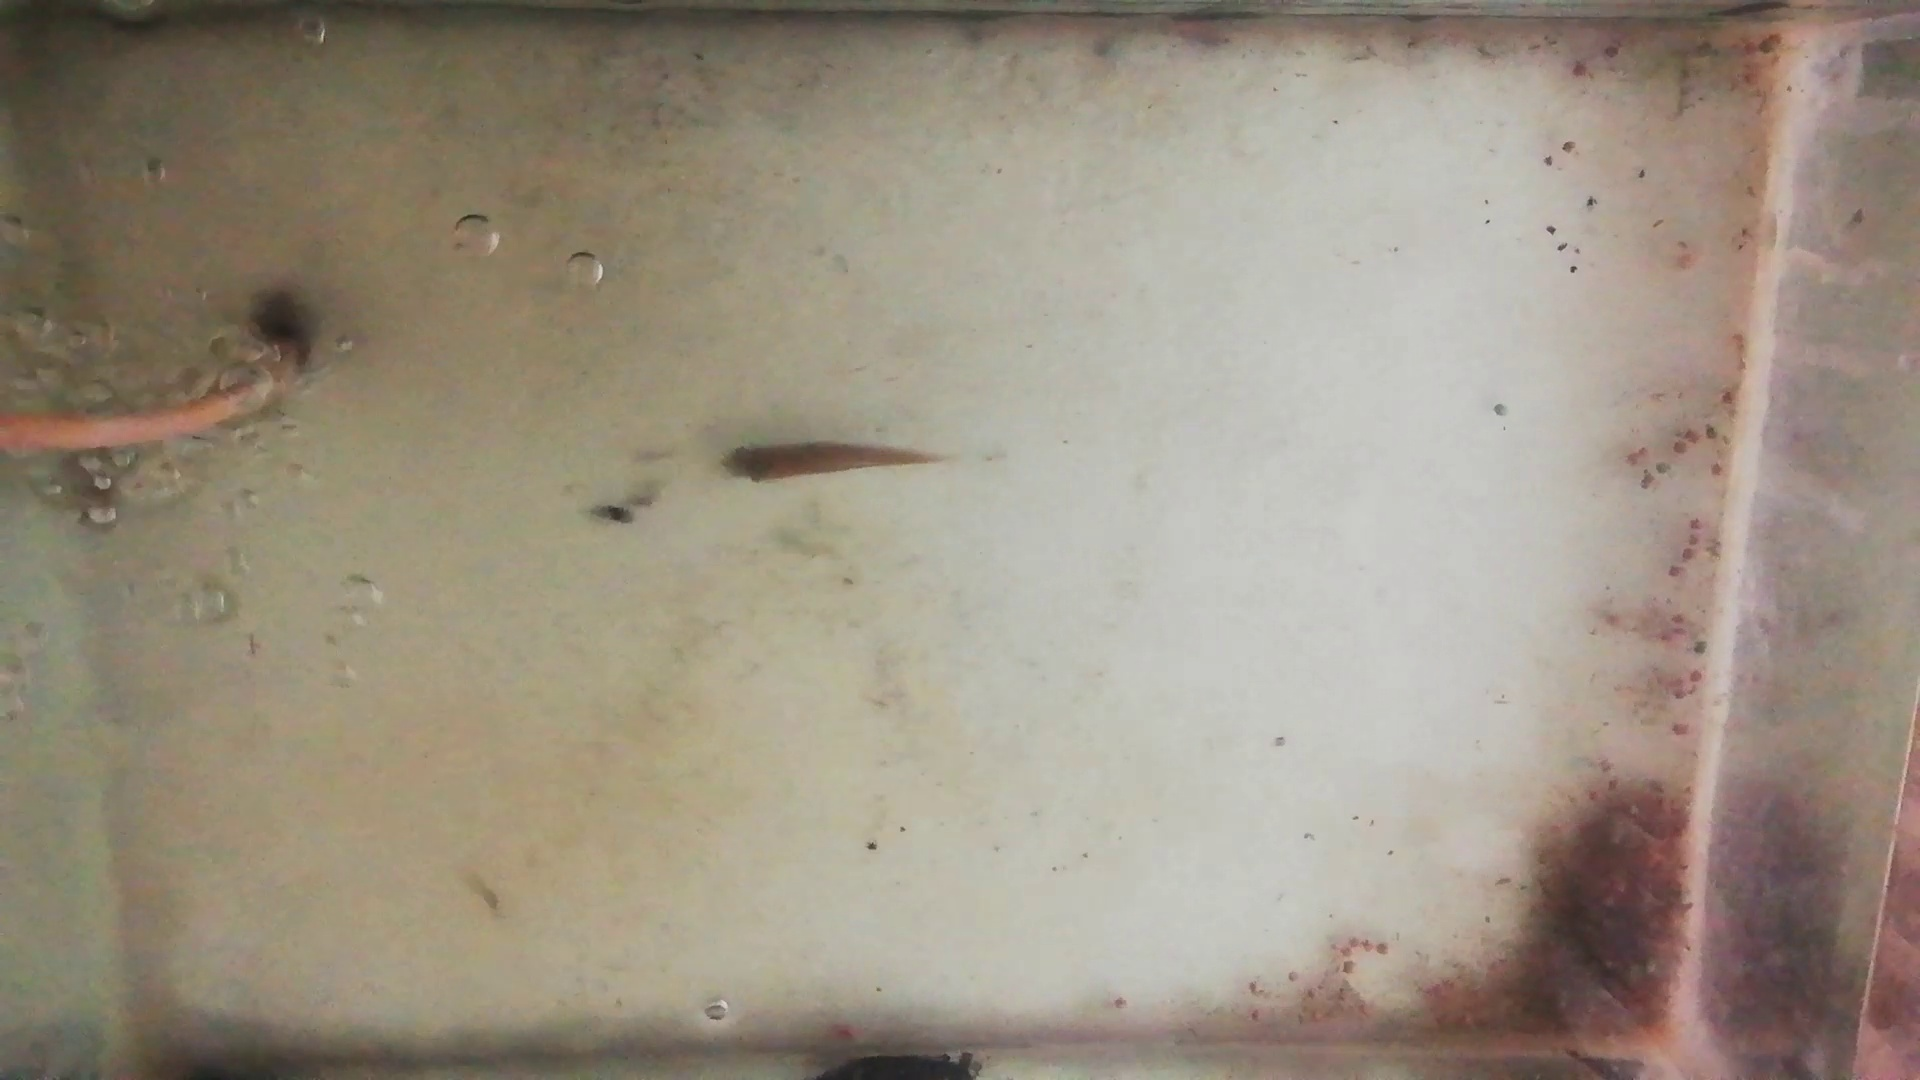fish: (719, 440, 942, 483), (46, 448, 164, 500)
